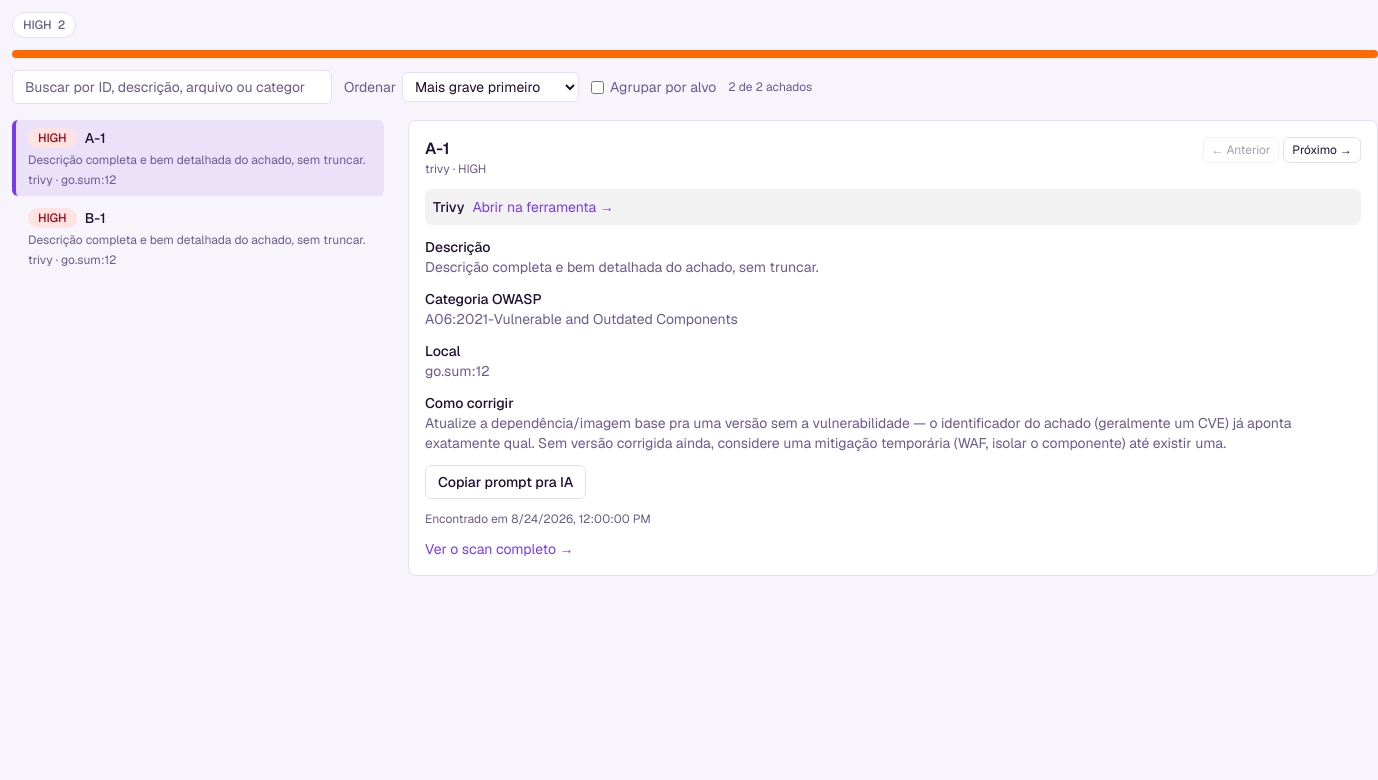
Test: FindingsTable › Agrupar por alvo (só na visão agregada) reorganiza a lista por target
Check: the element named "Detalhe do achado" is shown, box [408, 120, 1377, 576]
Click the checkbox labelled "Agrupar por alvo".
click(598, 87)  # box [591, 80, 604, 94]
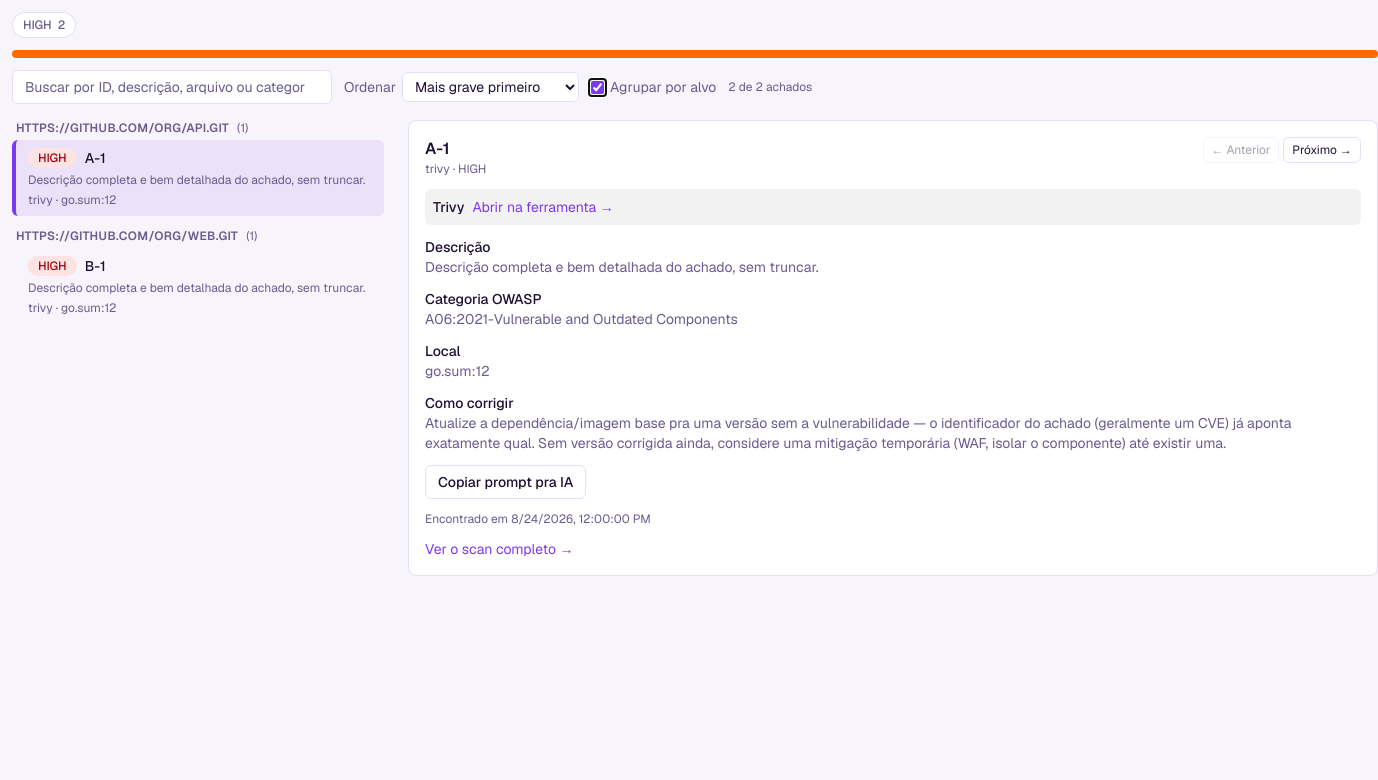
Check: the option with aria-label "Ver detalhes do achado A-1" is shown, box [12, 140, 384, 216]
Check: the text "https://github.com/org/api.git" is shown, box [16, 120, 229, 136]
Check: the text "https://github.com/org/web.git" is shown, box [16, 228, 238, 244]
